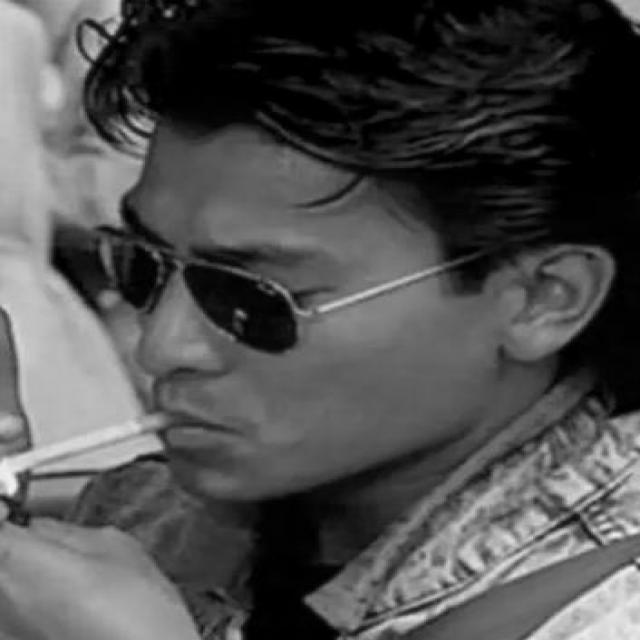smoke: (0, 373, 210, 494)
